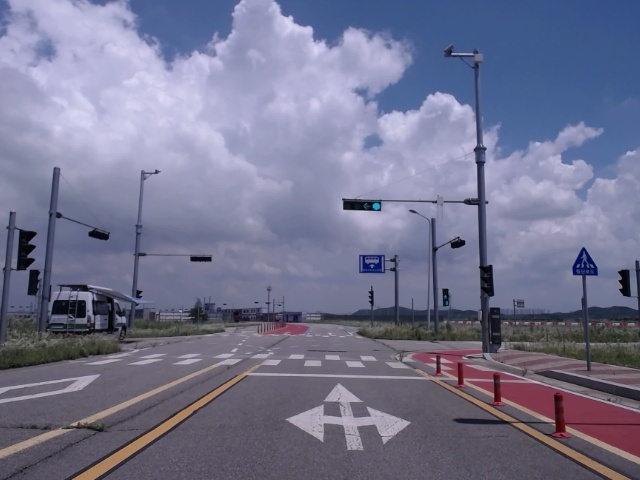all_green_4: (343, 197, 387, 212)
